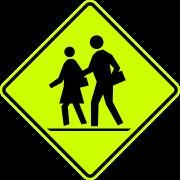School Ahead: (17, 10, 164, 153)
